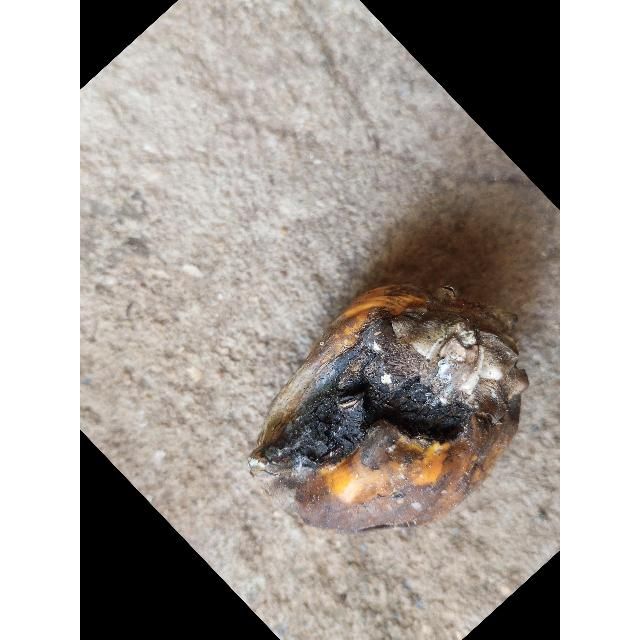damaged: (249, 280, 527, 535)
